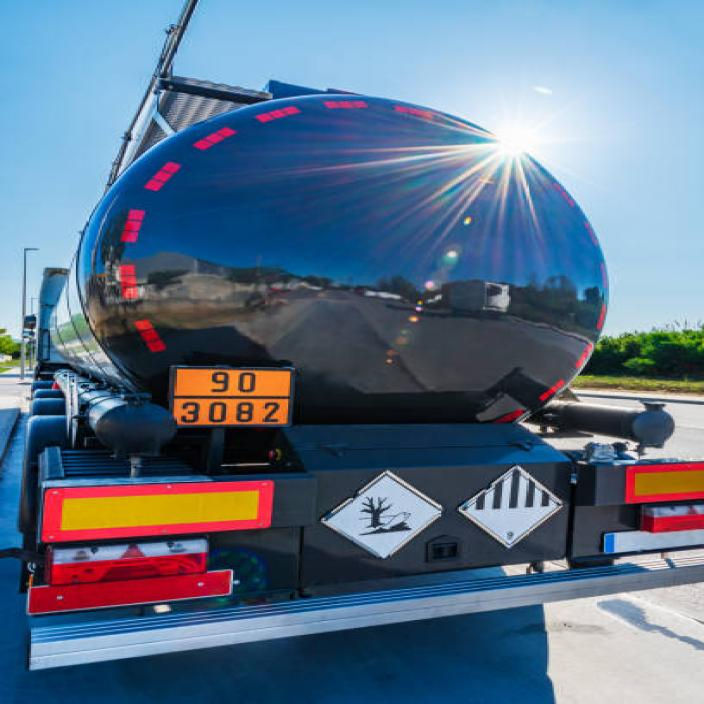elevator doors: (459, 466, 561, 546)
